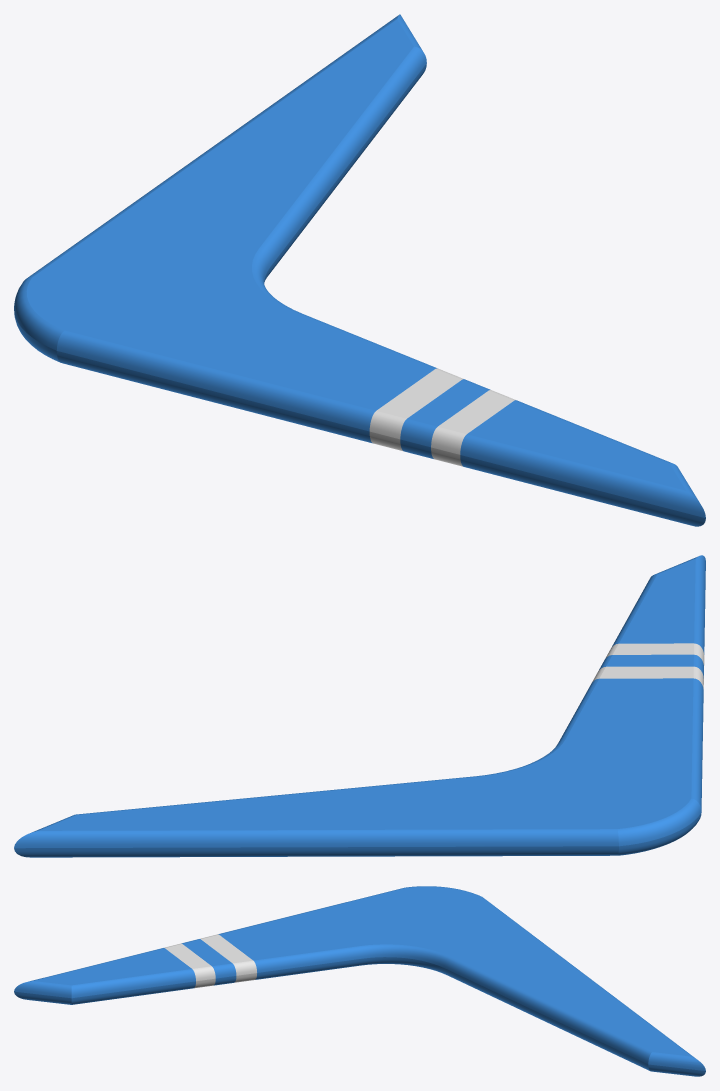
File: boomerang.b.glb
The picture shows the model from 3 angles, top to bottom: view 1: azimuth 30°, elevation 25°; view 2: azimuth 150°, elevation 25°; view 3: azimuth 270°, elevation 25°; orthographic projection. The views are drawn at different scales.
Parts seen in each view (by area): view 1: Main, White; view 2: Main, White; view 3: Main, White.
Part boxes in pixels (box(x1,y1,x2,y2)): Main: box(14, 14, 705, 526); White: box(369, 368, 515, 466); Main: box(14, 555, 705, 857); White: box(592, 643, 704, 688); Main: box(14, 886, 705, 1076); White: box(164, 934, 256, 988).
Size of the model in its own units: 0.3623 by 0.0222 by 0.6042.
